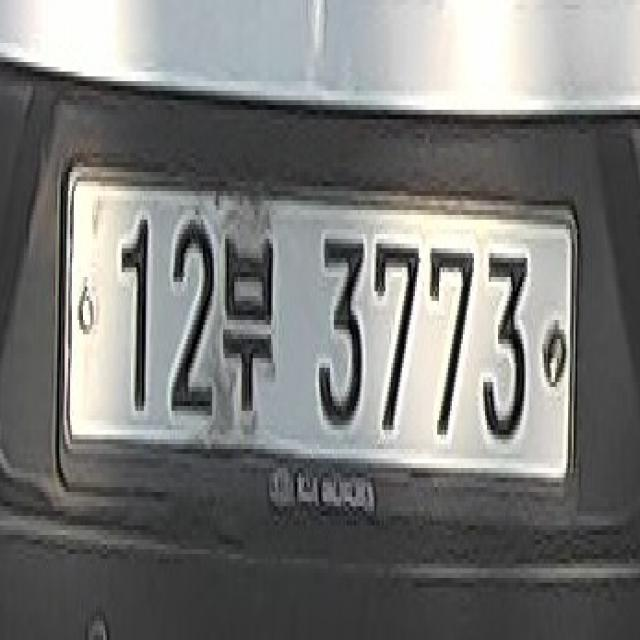1: (112, 205, 155, 425)
2: (162, 206, 218, 440)
3: (312, 229, 371, 425), (481, 244, 533, 449)
7: (422, 239, 480, 449), (369, 229, 420, 444)
bu: (220, 229, 284, 430)
license_plate: (50, 148, 583, 540)
